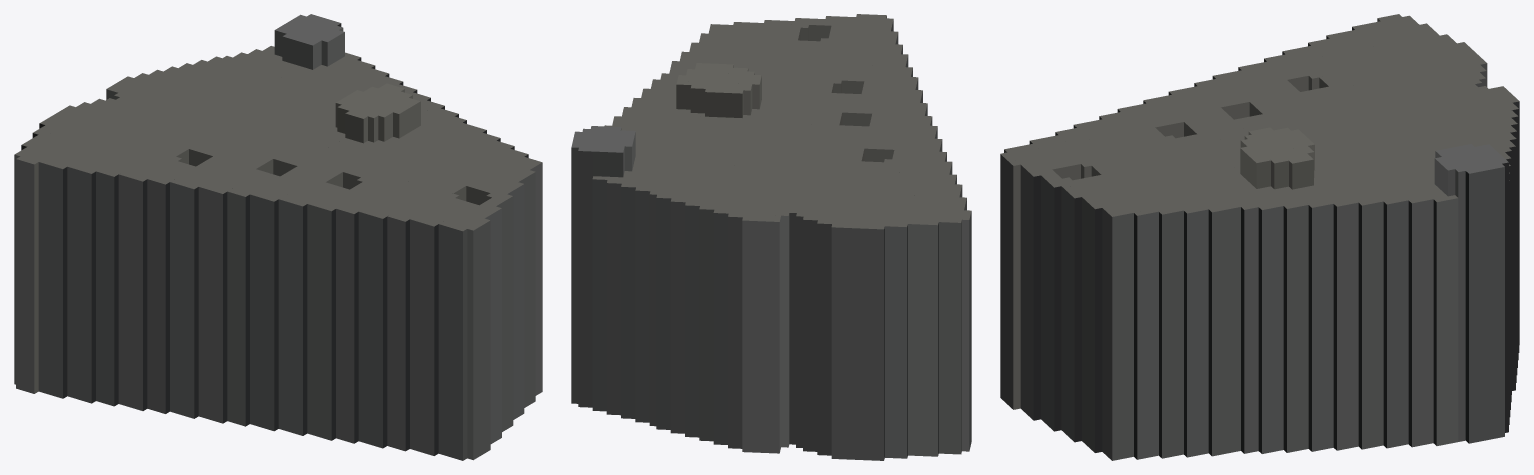
The model's file is t_-3_12.far.glb.
The picture shows the model from 3 angles, left to right: view 1: azimuth 30°, elevation 25°; view 2: azimuth 150°, elevation 25°; view 3: azimuth 270°, elevation 25°; orthographic projection. The views are drawn at different scales.
Visible parts, largest first — view 1: opaque; view 2: opaque; view 3: opaque.
Part boxes in pixels (x1,y1,x2,y2): opaque: (14,14,542,460); opaque: (571,14,971,460); opaque: (1000,14,1519,460).
Bounding box in the file's own units: 60.49 × 37.5 × 65.43.
1 material, 1 textured.
